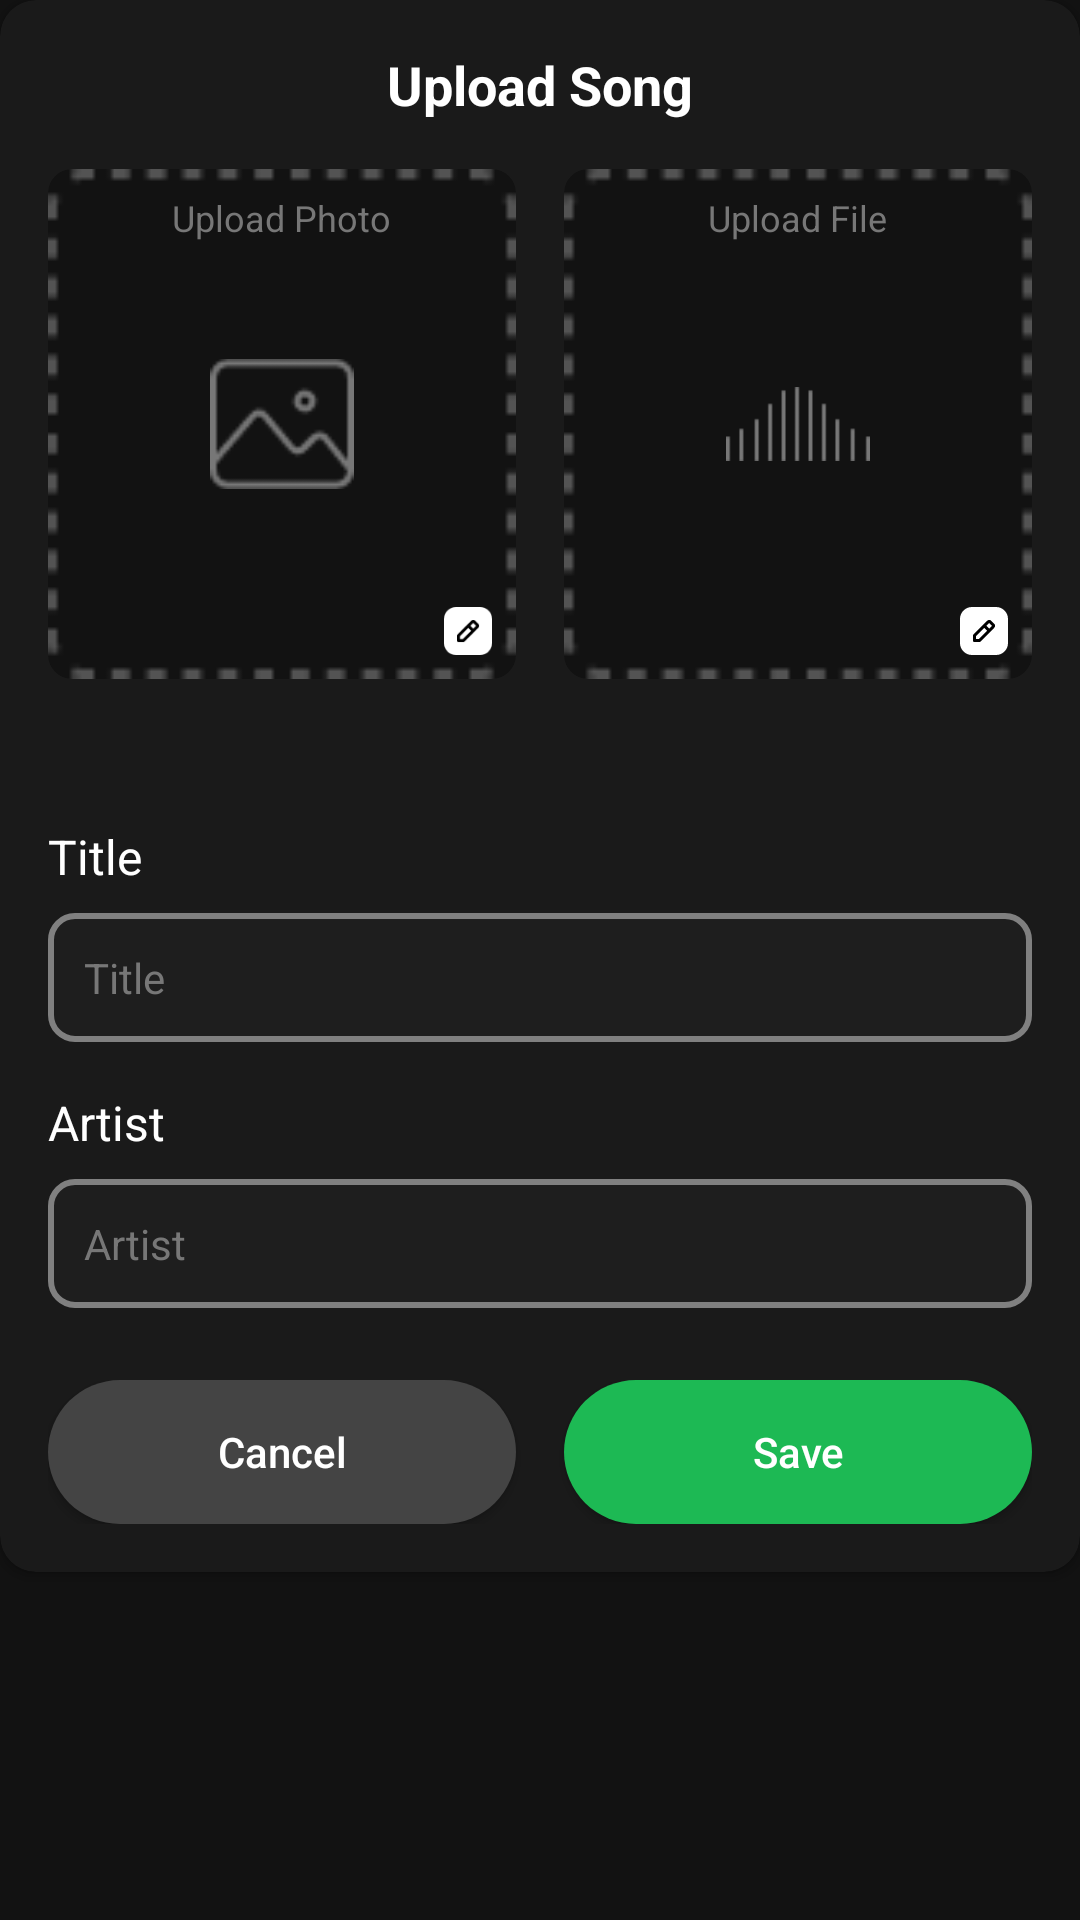

Named icons in this screenshot (1080 x 1920) and their bounding boxes, (x1, y1, x2, y2):
audio wave: (726, 387, 870, 461)
edit: (444, 607, 492, 655), (960, 607, 1008, 655)
